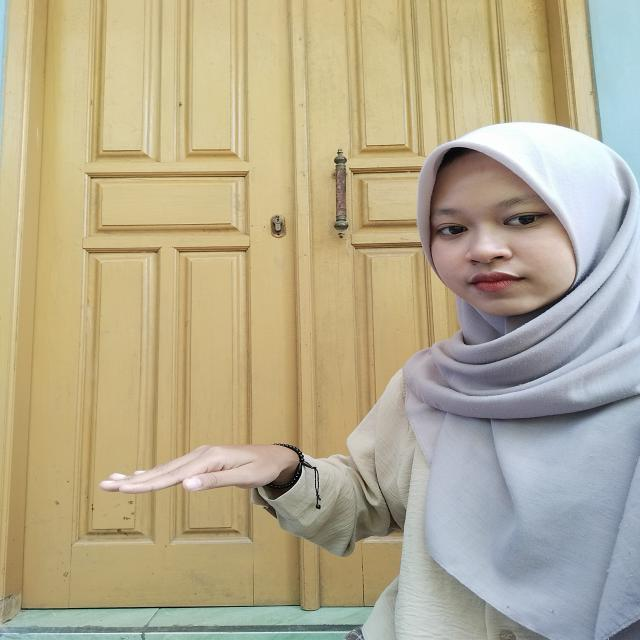adik: (81, 432, 316, 520)
